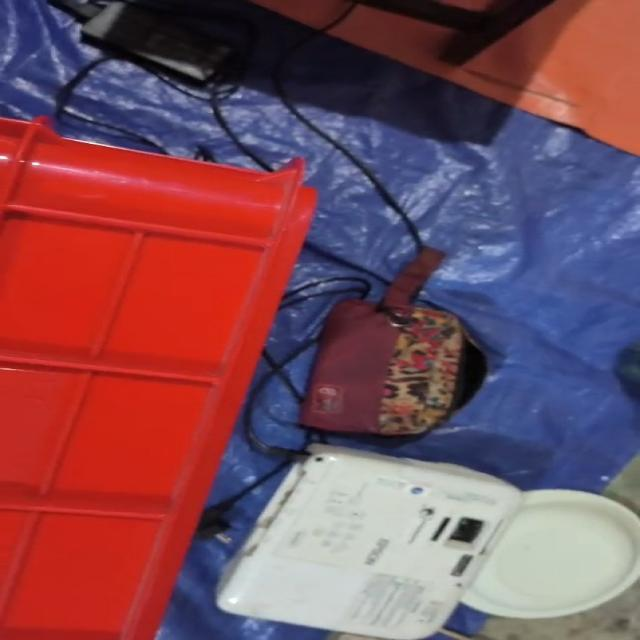red plastic box: (0, 116, 320, 639)
